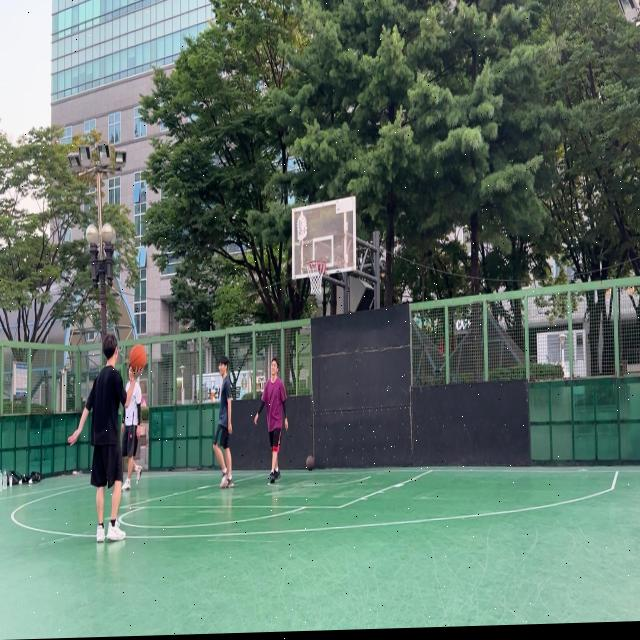basketball: (130, 343, 146, 373), (306, 454, 315, 471)
hoop: (306, 258, 326, 296)
